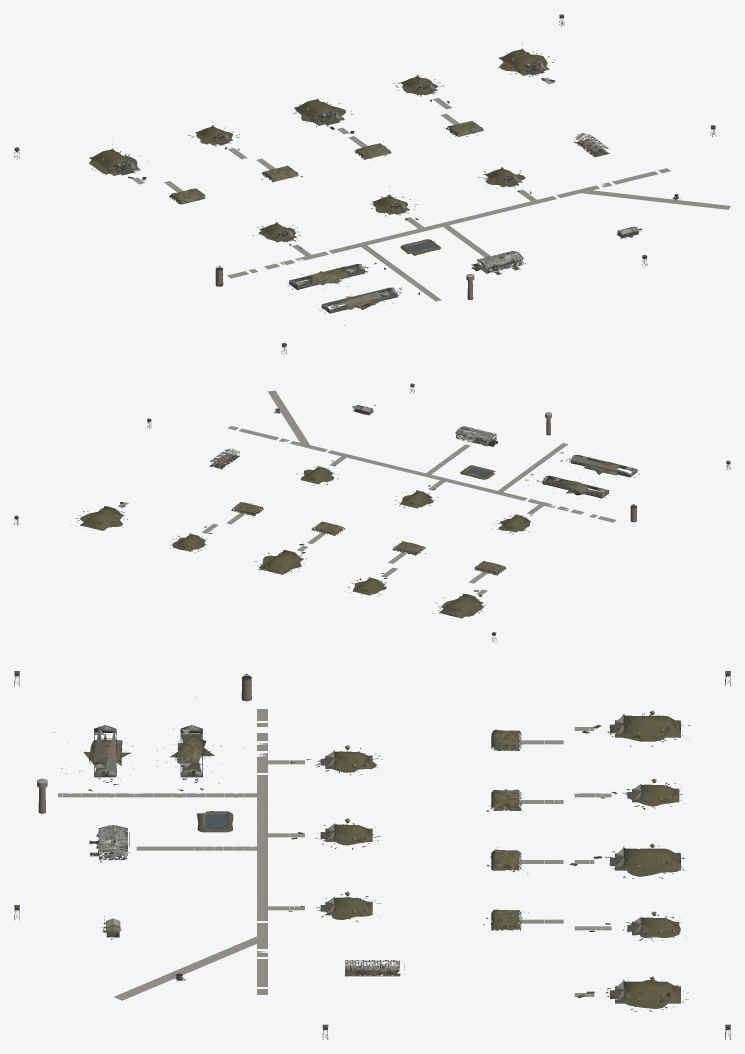
File: site_ammo_a_lo.glb
3 views of the same model, one above another, from view 1: azimuth 30°, elevation 25°; view 2: azimuth 150°, elevation 25°; view 3: azimuth 270°, elevation 25° (orthographic). The views are drawn at different scales.
Visible parts, largest first — view 1: deco|tile_conc, deco|A_A, b_barn2|A_A, b_barn1|A_A, b_mag5|A_A, b_mag1|A_A, b_mag3|A_A, b_shop|A_A, b_shop_ruin|A_B; view 2: deco|tile_conc, b_barn2|A_A, deco|A_A, b_barn1|A_A, b_mag3|A_A, b_mag1|A_A, b_mag5|A_A, b_shop_ruin|A_B; view 3: deco|tile_conc, deco|A_A, b_barn2|A_A, b_mag3|A_A, b_mag1|A_A, b_mag5|A_A, b_barn1|A_A, b_shop_ruin|A_B, b_shop|A_A, b_mag5_ruin|A_B, b_mag4|A_A, b_mag2|A_A (+11 smaller).
Part boxes in pixels (box(x1,y1,x2,y2)): deco|tile_conc: box(132, 77, 730, 301); deco|A_A: box(14, 14, 715, 354); b_barn2|A_A: box(319, 287, 399, 313); b_barn1|A_A: box(287, 264, 366, 289); b_mag5|A_A: box(502, 41, 548, 75); b_mag1|A_A: box(89, 140, 138, 175); b_mag3|A_A: box(298, 98, 344, 125); b_shop|A_A: box(471, 251, 523, 274); b_shop_ruin|A_B: box(472, 251, 525, 274); deco|tile_conc: box(117, 390, 616, 594); b_barn2|A_A: box(570, 454, 639, 477); deco|A_A: box(14, 383, 730, 642); b_barn1|A_A: box(542, 475, 610, 498); b_mag3|A_A: box(261, 550, 301, 574); b_mag1|A_A: box(439, 593, 483, 618); b_mag5|A_A: box(81, 506, 123, 529); b_shop_ruin|A_B: box(455, 426, 497, 446); deco|tile_conc: box(58, 709, 611, 1000); deco|A_A: box(14, 671, 730, 1039); b_barn2|A_A: box(89, 725, 122, 779); b_mag3|A_A: box(610, 843, 683, 870); b_mag1|A_A: box(610, 710, 683, 737); b_mag5|A_A: box(610, 976, 683, 1003); b_barn1|A_A: box(175, 725, 206, 779); b_shop_ruin|A_B: box(89, 825, 127, 861); b_shop|A_A: box(89, 825, 129, 862); b_mag5_ruin|A_B: box(577, 980, 688, 1011); b_mag4|A_A: box(627, 911, 681, 935); b_mag2|A_A: box(627, 778, 681, 802).
Size of the model in its own units: 536 by 29.19 by 456.
45 materials, 38 textured.
